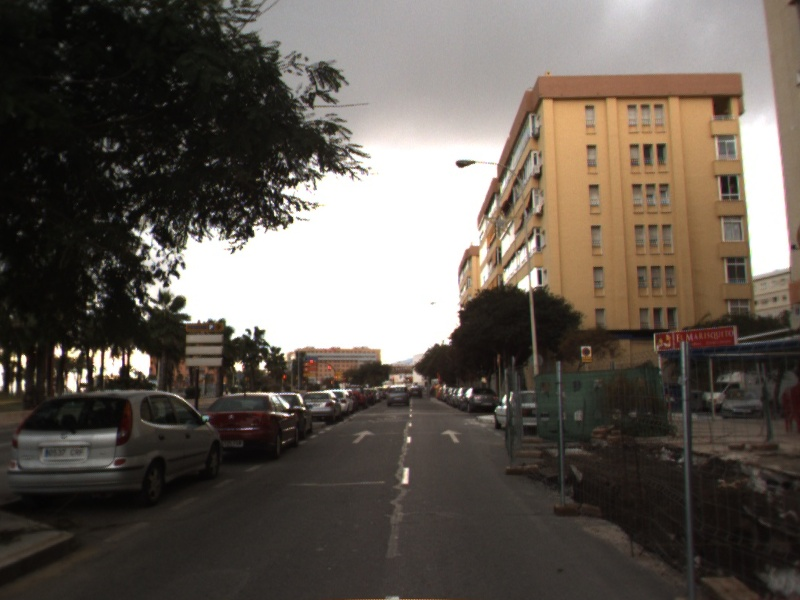STRAIGHT: (350, 429, 378, 444), (439, 428, 464, 444)
